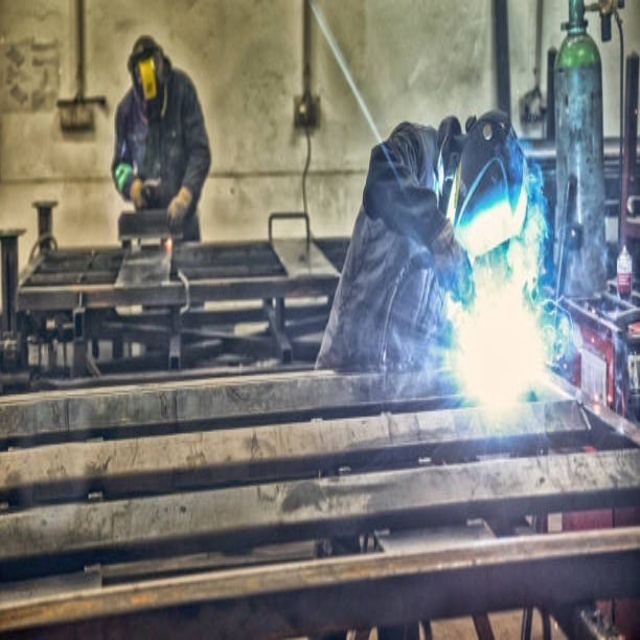Guantes: (166, 186, 193, 230), (130, 177, 155, 209)
